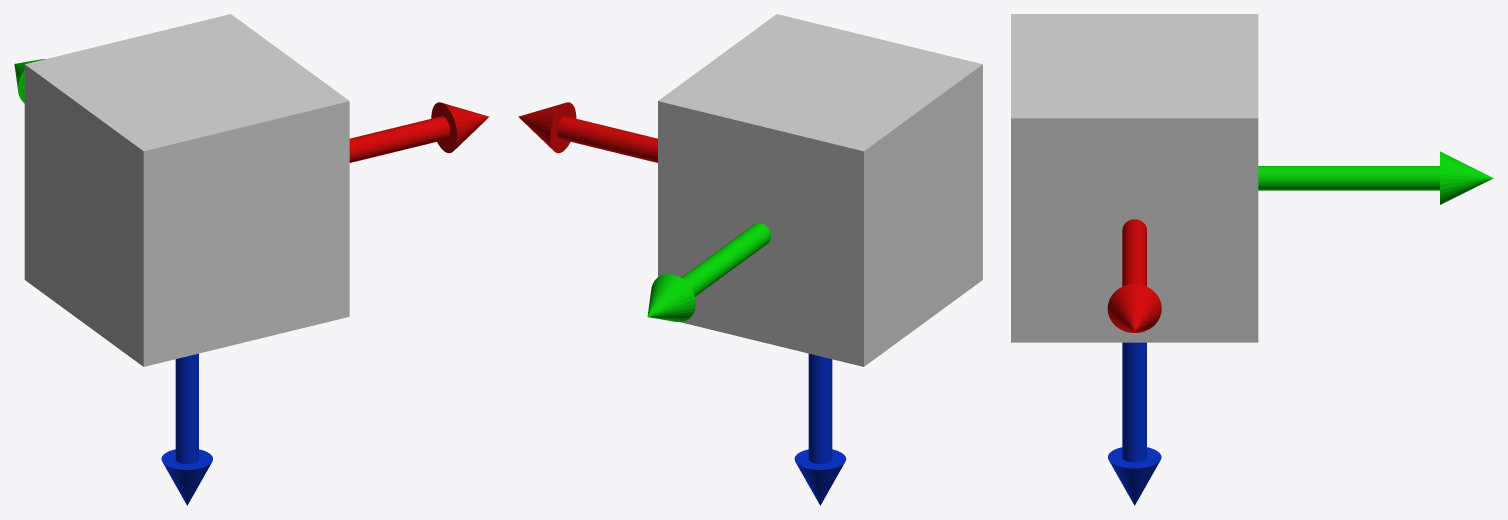
File: AxisCube.fbx
3 renders of one model, left to right at view 1: azimuth 30°, elevation 25°; view 2: azimuth 150°, elevation 25°; view 3: azimuth 270°, elevation 25°, orthographic. The views are drawn at different scales.
Visible parts, largest first — view 1: Cylinder; view 2: Cylinder; view 3: Cylinder.
Boxes of the visible parts, <box> form: Cylinder: <box>14,14,489,505</box>; Cylinder: <box>518,14,982,505</box>; Cylinder: <box>1011,14,1493,505</box>.
Size of the model in its own units: 393 by 393 by 391.
